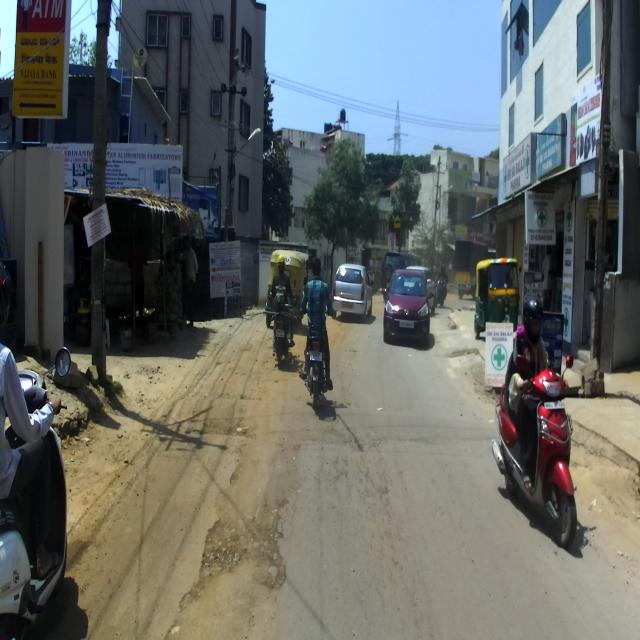car ahead at: (383, 267, 430, 352), (332, 260, 372, 311)
electric pole ahead at: (84, 0, 119, 374)
motorcycle ahead at: (492, 354, 588, 548), (300, 324, 338, 406)
